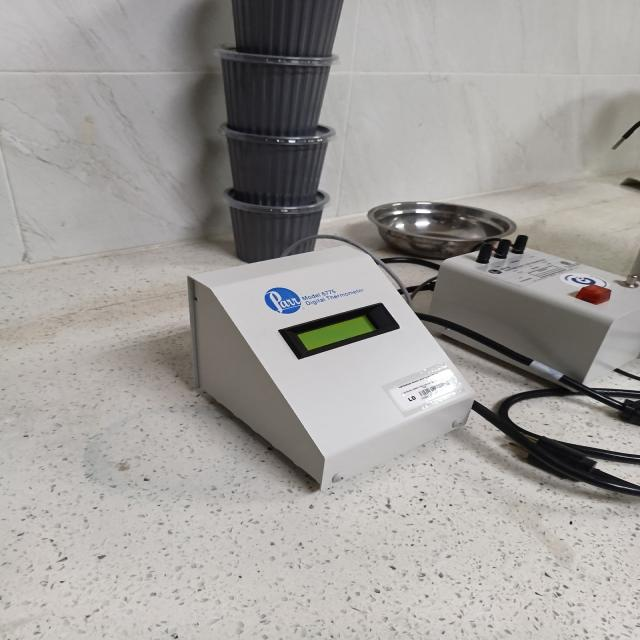Termometro Digital Parr Model 6775: (188, 247, 473, 488)
